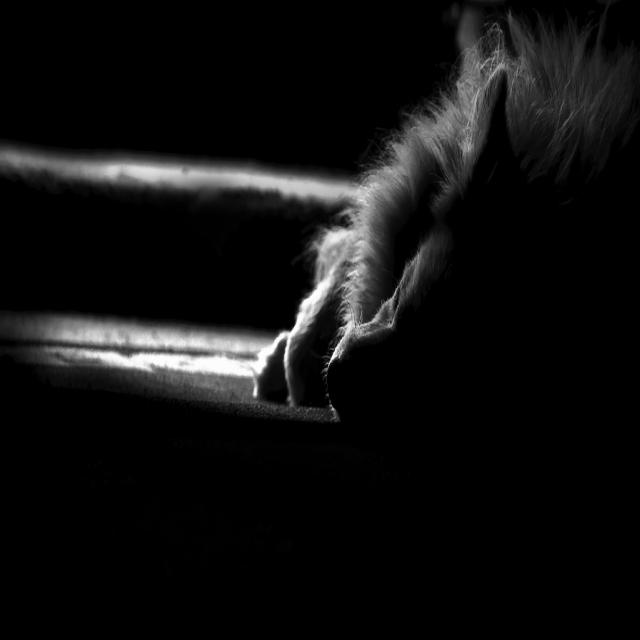dog: (259, 53, 640, 565)
